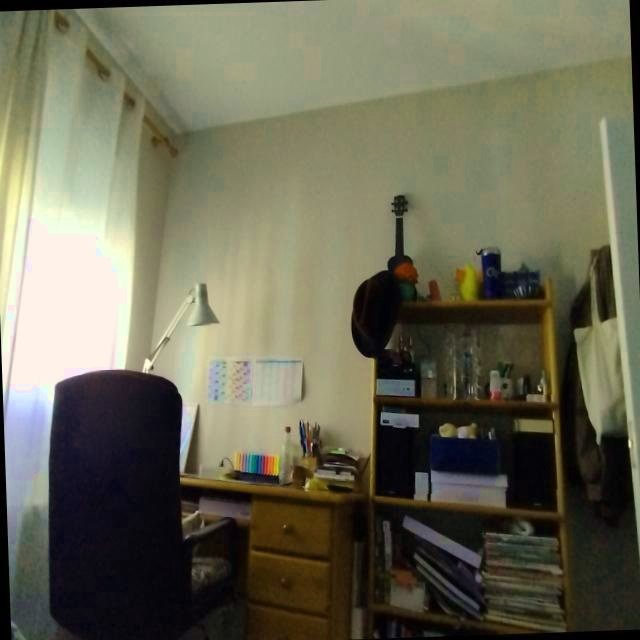bookshelf: (381, 602, 564, 635), (371, 496, 560, 526), (423, 397, 556, 420), (431, 299, 538, 308)
cabinet: (180, 477, 360, 640)
chair: (46, 370, 245, 640)
lamp: (144, 283, 219, 372)
